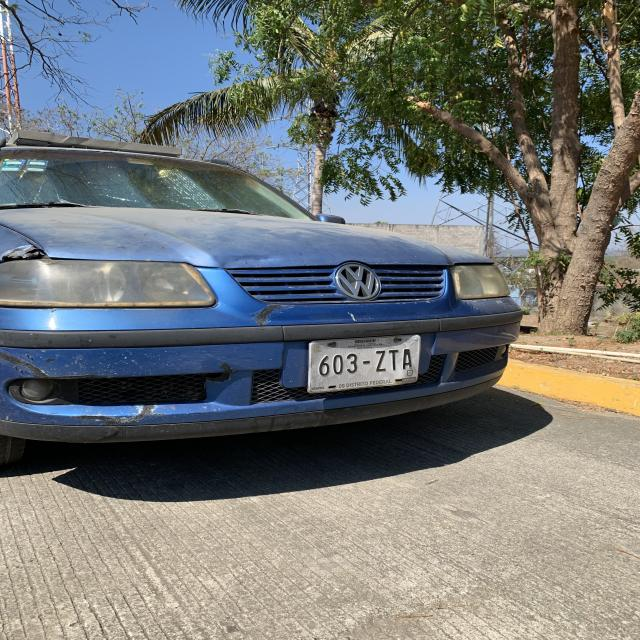placa: (307, 350, 421, 376)
